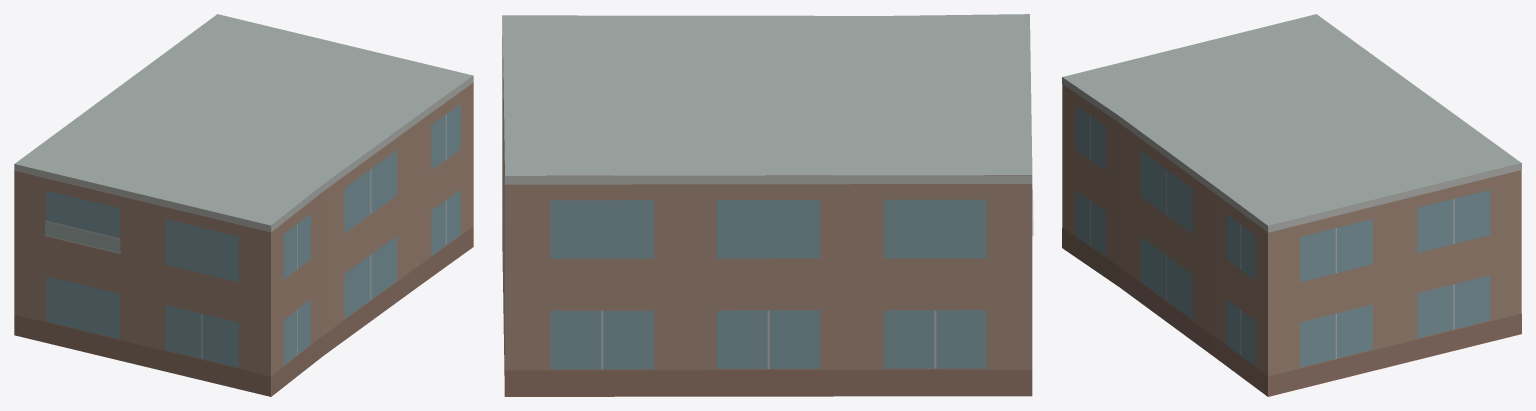
File: survey-upis-32687953.glb
The picture shows the model from 3 angles, left to right: view 1: azimuth 30°, elevation 25°; view 2: azimuth 150°, elevation 25°; view 3: azimuth 270°, elevation 25°; orthographic projection. The views are drawn at different scales.
Visible parts, largest first — view 1: survey-upis-32687953.tmp; view 2: survey-upis-32687953.tmp; view 3: survey-upis-32687953.tmp.
Part boxes in pixels (x1=…): survey-upis-32687953.tmp: x1=14, y1=14, x2=473, y2=396; survey-upis-32687953.tmp: x1=502, y1=14, x2=1033, y2=396; survey-upis-32687953.tmp: x1=1062, y1=14, x2=1521, y2=396.
Bounding box in the file's own units: 16.22 × 6.1 × 14.87.
